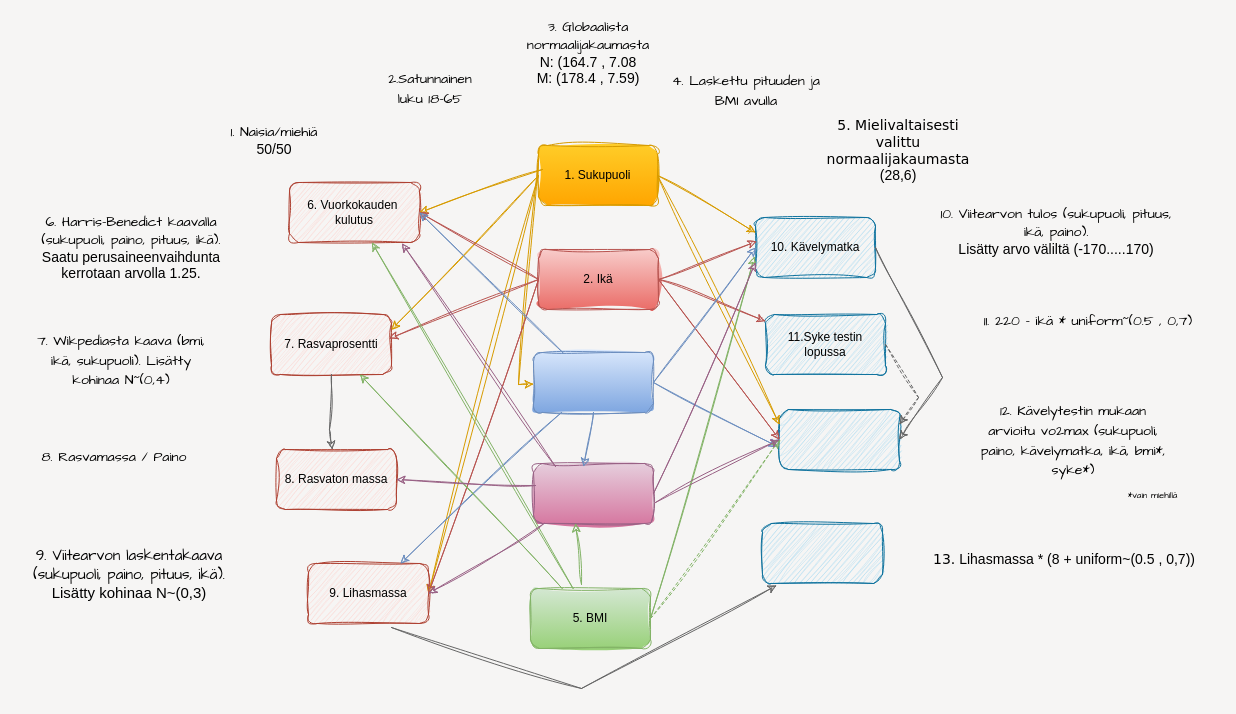
Image size: 1236x714. Some labels were removed from this diagram. Here are the shapes that lost their labels. From the top down, the centre of each, then its label:
(593,382): 3. Pituus
(839,439): 12. Vo2max
(593,493): 4. Paino
(822,553): 13. Lihasvoima (toistot)
